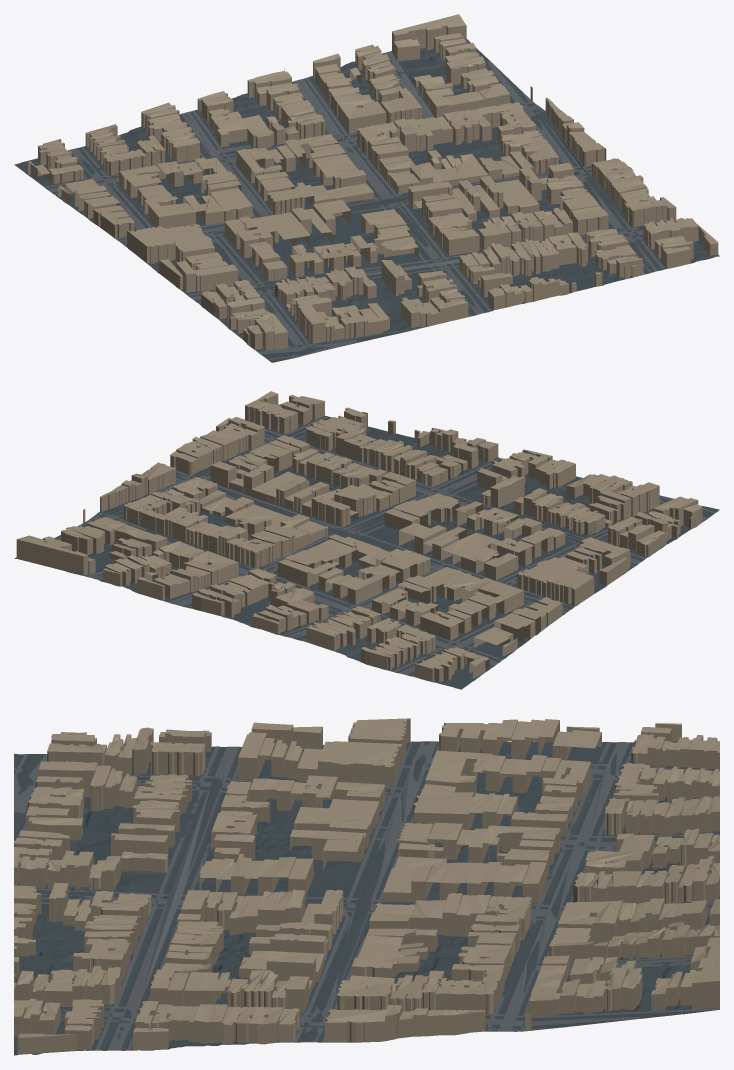
Rendered from epsg26910-1428-10886.lod0.glb.
3 views of the same model, one above another, from view 1: azimuth 30°, elevation 25°; view 2: azimuth 150°, elevation 25°; view 3: azimuth 270°, elevation 25° (orthographic). The views are drawn at different scales.
Visible parts, largest first — view 1: epsg26910-1428-10886-lod0; view 2: epsg26910-1428-10886-lod0; view 3: epsg26910-1428-10886-lod0.
Part boxes in pixels (x1=…): epsg26910-1428-10886-lod0: x1=14, y1=14, x2=719, y2=362; epsg26910-1428-10886-lod0: x1=14, y1=391, x2=719, y2=689; epsg26910-1428-10886-lod0: x1=14, y1=718, x2=719, y2=1055.
Size of the model in its own units: 384 by 44.89 by 384.
